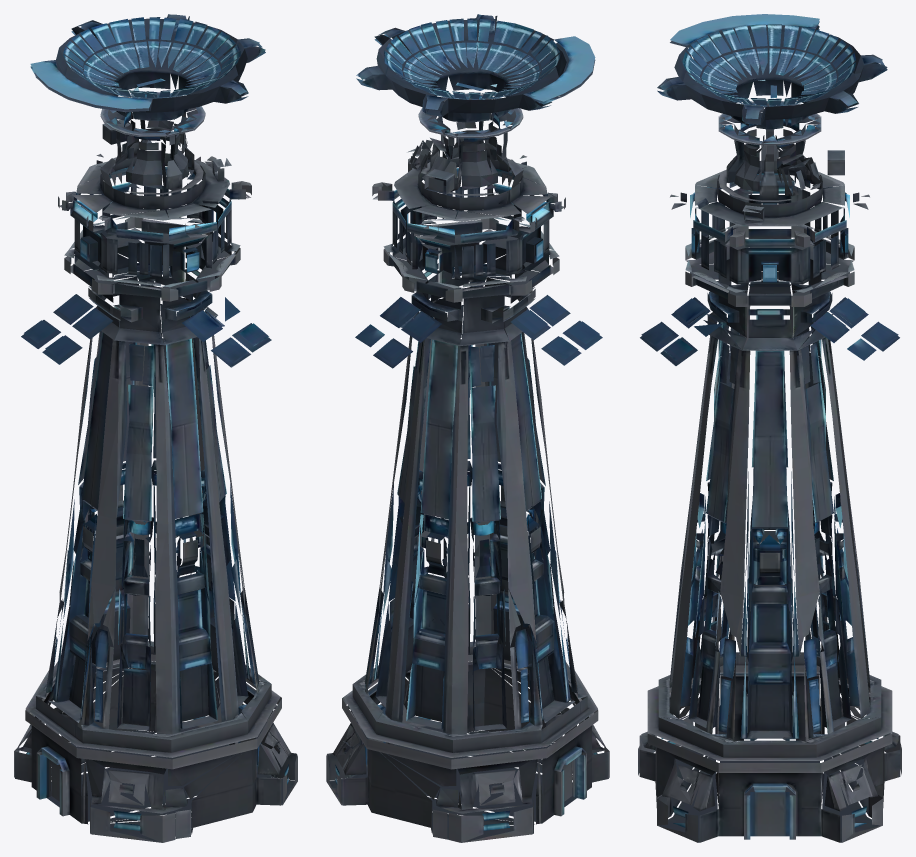
File: radar_array_LOD2.glb
3 views of the same model, side by side, from view 1: azimuth 30°, elevation 25°; view 2: azimuth 150°, elevation 25°; view 3: azimuth 270°, elevation 25° (orthographic).
Parts seen in each view (by area): view 1: radar_array_LOD2; view 2: radar_array_LOD2; view 3: radar_array_LOD2.
Boxes of the visible parts, bbox=[...] form: radar_array_LOD2: bbox=[14, 14, 297, 842]; radar_array_LOD2: bbox=[326, 14, 609, 842]; radar_array_LOD2: bbox=[638, 14, 901, 842].
Bounding box in the file's own units: 0.3158 × 0.9903 × 0.3256.
1 material, 1 textured.
